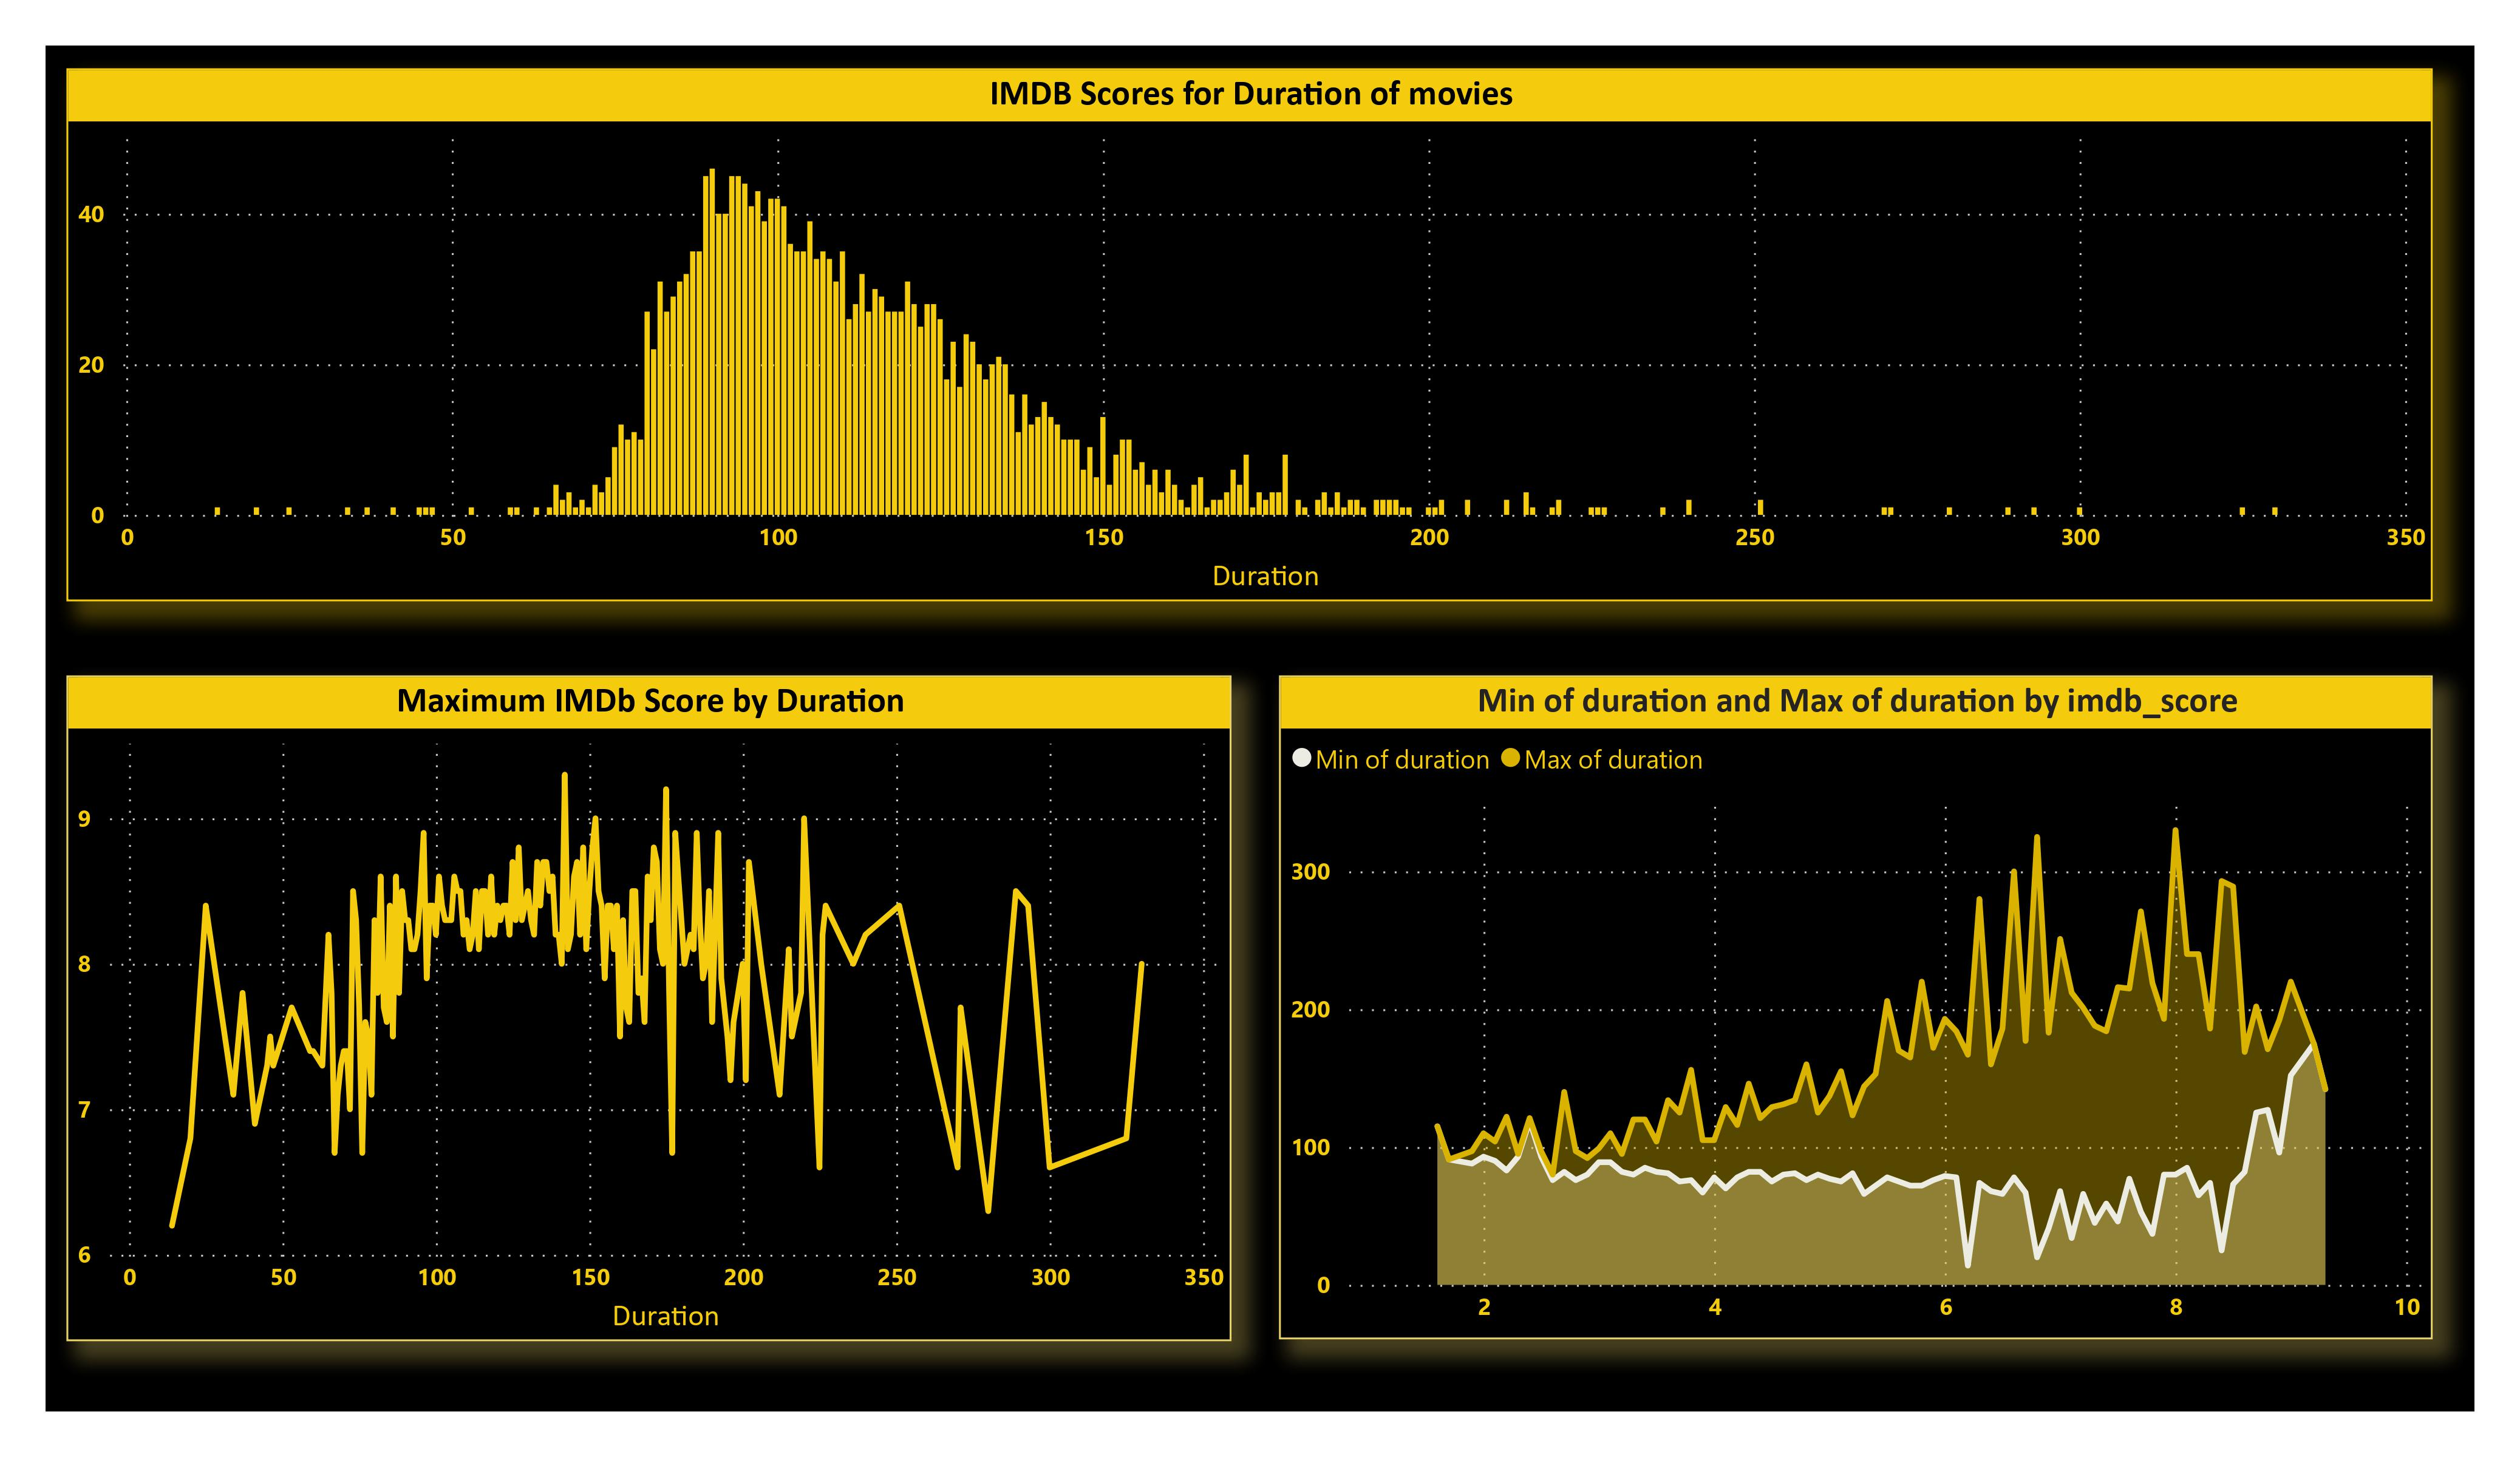

This screenshot's page, from the dashboard's own definition file:
{"tool":"powerbi","page":{"name":"Page 3","canvas":[1280,720],"ordinal":2},"visuals":[{"type":"lineStackedColumnComboChart","title":"IMDB Scores for Duration of movies","fields":{"Category":["imdb_cleaned.duration"],"Y":["Count(imdb_cleaned.imdb_score)"]},"box":[10.8,12.1,1246.8,280.4],"z":0},{"type":"lineChart","title":"Maximum IMDb Score by Duration","fields":{"Category":["imdb_cleaned.duration"],"Y":["Max(imdb_cleaned.imdb_score)"]},"box":[11,331.8,614.2,351],"z":1000},{"type":"areaChart","fields":{"Y":["Min(imdb_cleaned.duration)","Max(imdb_cleaned.duration)"],"Category":["imdb_cleaned.imdb_score"]},"box":[649.7,331.6,607.9,350.5],"z":2000}]}

Visuals, with their boxes in screenshot pixels (x1, y1, x2, y2):
"IMDB Scores for Duration of movies" lineStackedColumnComboChart: [x1=66, y1=69, x2=2432, y2=600]
"Maximum IMDb Score by Duration" lineChart: [x1=66, y1=675, x2=1232, y2=1341]
areaChart - Min(imdb_cleaned.duration) x Max(imdb_cleaned.duration): [x1=1278, y1=674, x2=2432, y2=1340]
